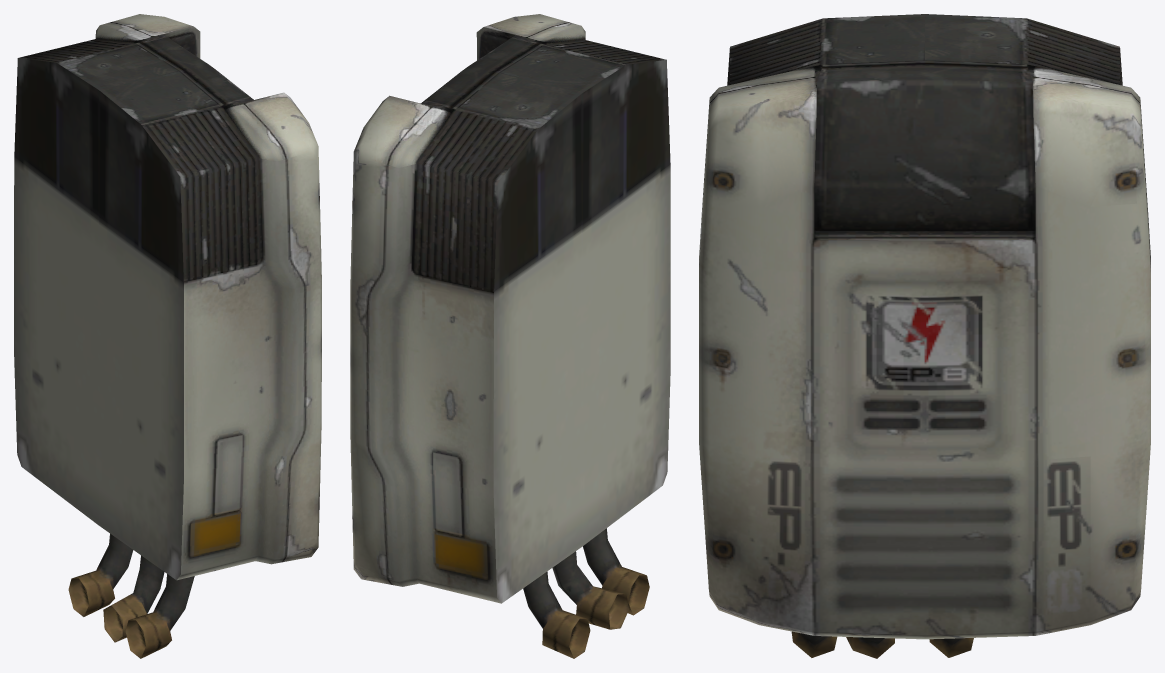
Rendered from Breaker01.FBX.
3 renders of one model, left to right at view 1: azimuth 30°, elevation 25°; view 2: azimuth 150°, elevation 25°; view 3: azimuth 270°, elevation 25°, orthographic. The views are drawn at different scales.
Parts seen in each view (by area): view 1: Breaker01; view 2: Breaker01; view 3: Breaker01.
Part boxes in pixels (x1,y1,x2,y2): Breaker01: [14, 14, 321, 658]; Breaker01: [350, 14, 670, 658]; Breaker01: [699, 14, 1150, 658].
Bounding box in the file's own units: 0.2499 × 0.7961 × 0.5118.
